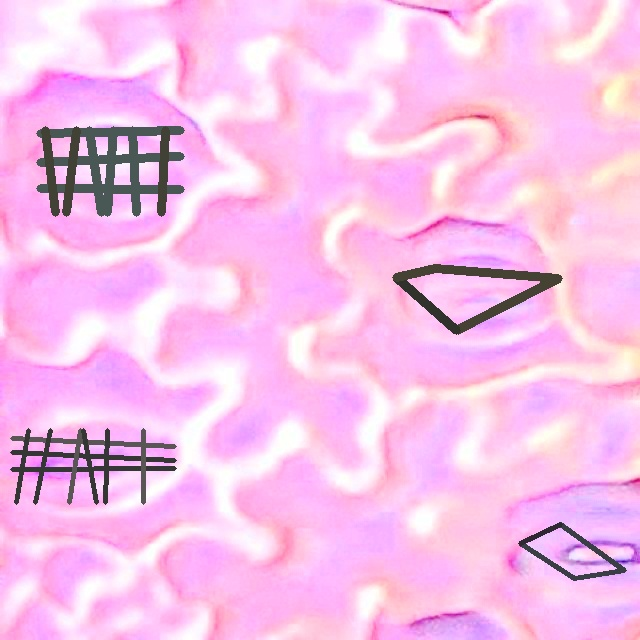open: (37, 126, 184, 216), (10, 428, 175, 504), (393, 265, 561, 334), (518, 522, 625, 579)
